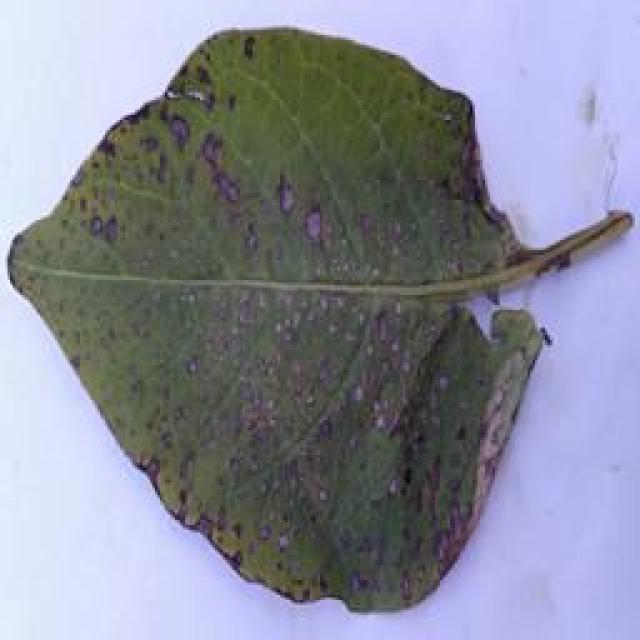Potato_Early_Blight: (5, 8, 632, 606)
